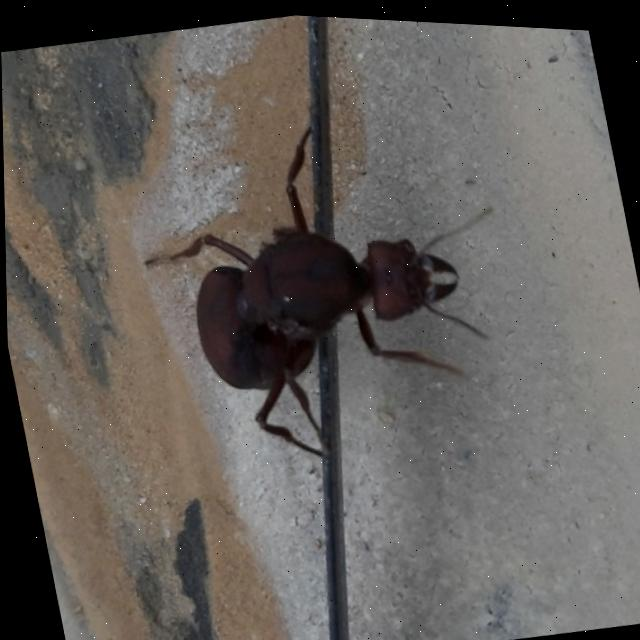Alive-Female-Dealate: (119, 85, 537, 489)
